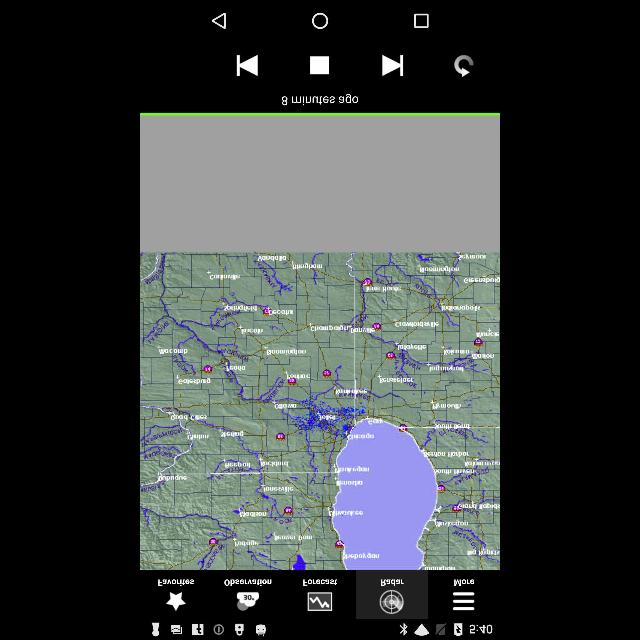icon: (378, 588, 404, 614), (234, 54, 260, 78), (381, 52, 405, 78), (452, 54, 476, 78), (451, 590, 475, 614), (232, 592, 260, 610), (164, 590, 186, 612), (307, 592, 333, 610), (310, 56, 330, 76), (211, 12, 229, 30), (311, 12, 329, 30), (414, 14, 431, 28)
map: (142, 252, 500, 570)
panel: (141, 40, 499, 110), (143, 1, 499, 37)
text: (280, 92, 360, 108), (223, 578, 271, 588), (158, 578, 194, 588), (302, 577, 338, 587), (382, 576, 402, 586), (454, 577, 476, 585)
toolbar: (141, 571, 499, 621)
uppertaskbar: (140, 622, 500, 638)
